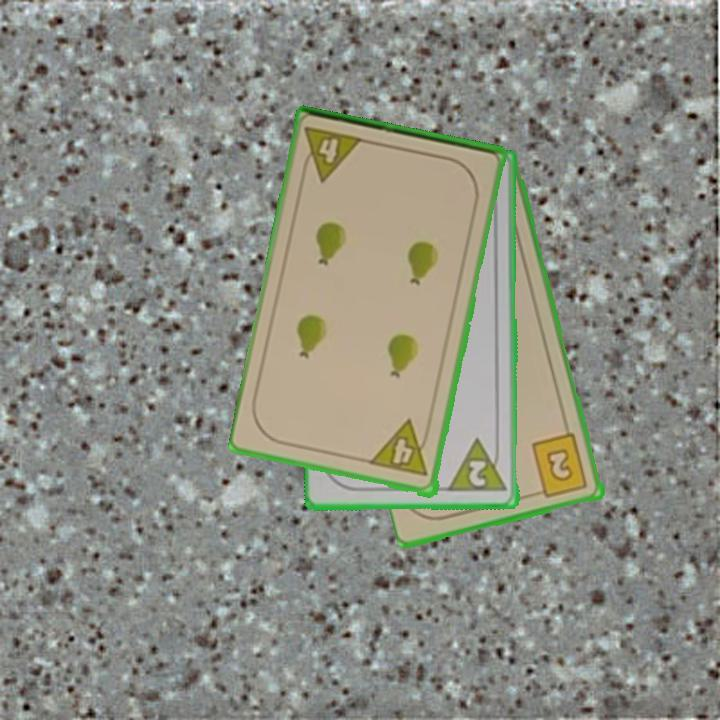2b: (528, 430, 591, 501)
2p: (446, 435, 511, 496)
4p: (297, 123, 366, 186), (368, 418, 434, 479)
